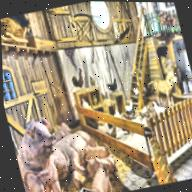boar: (7, 102, 123, 192)
